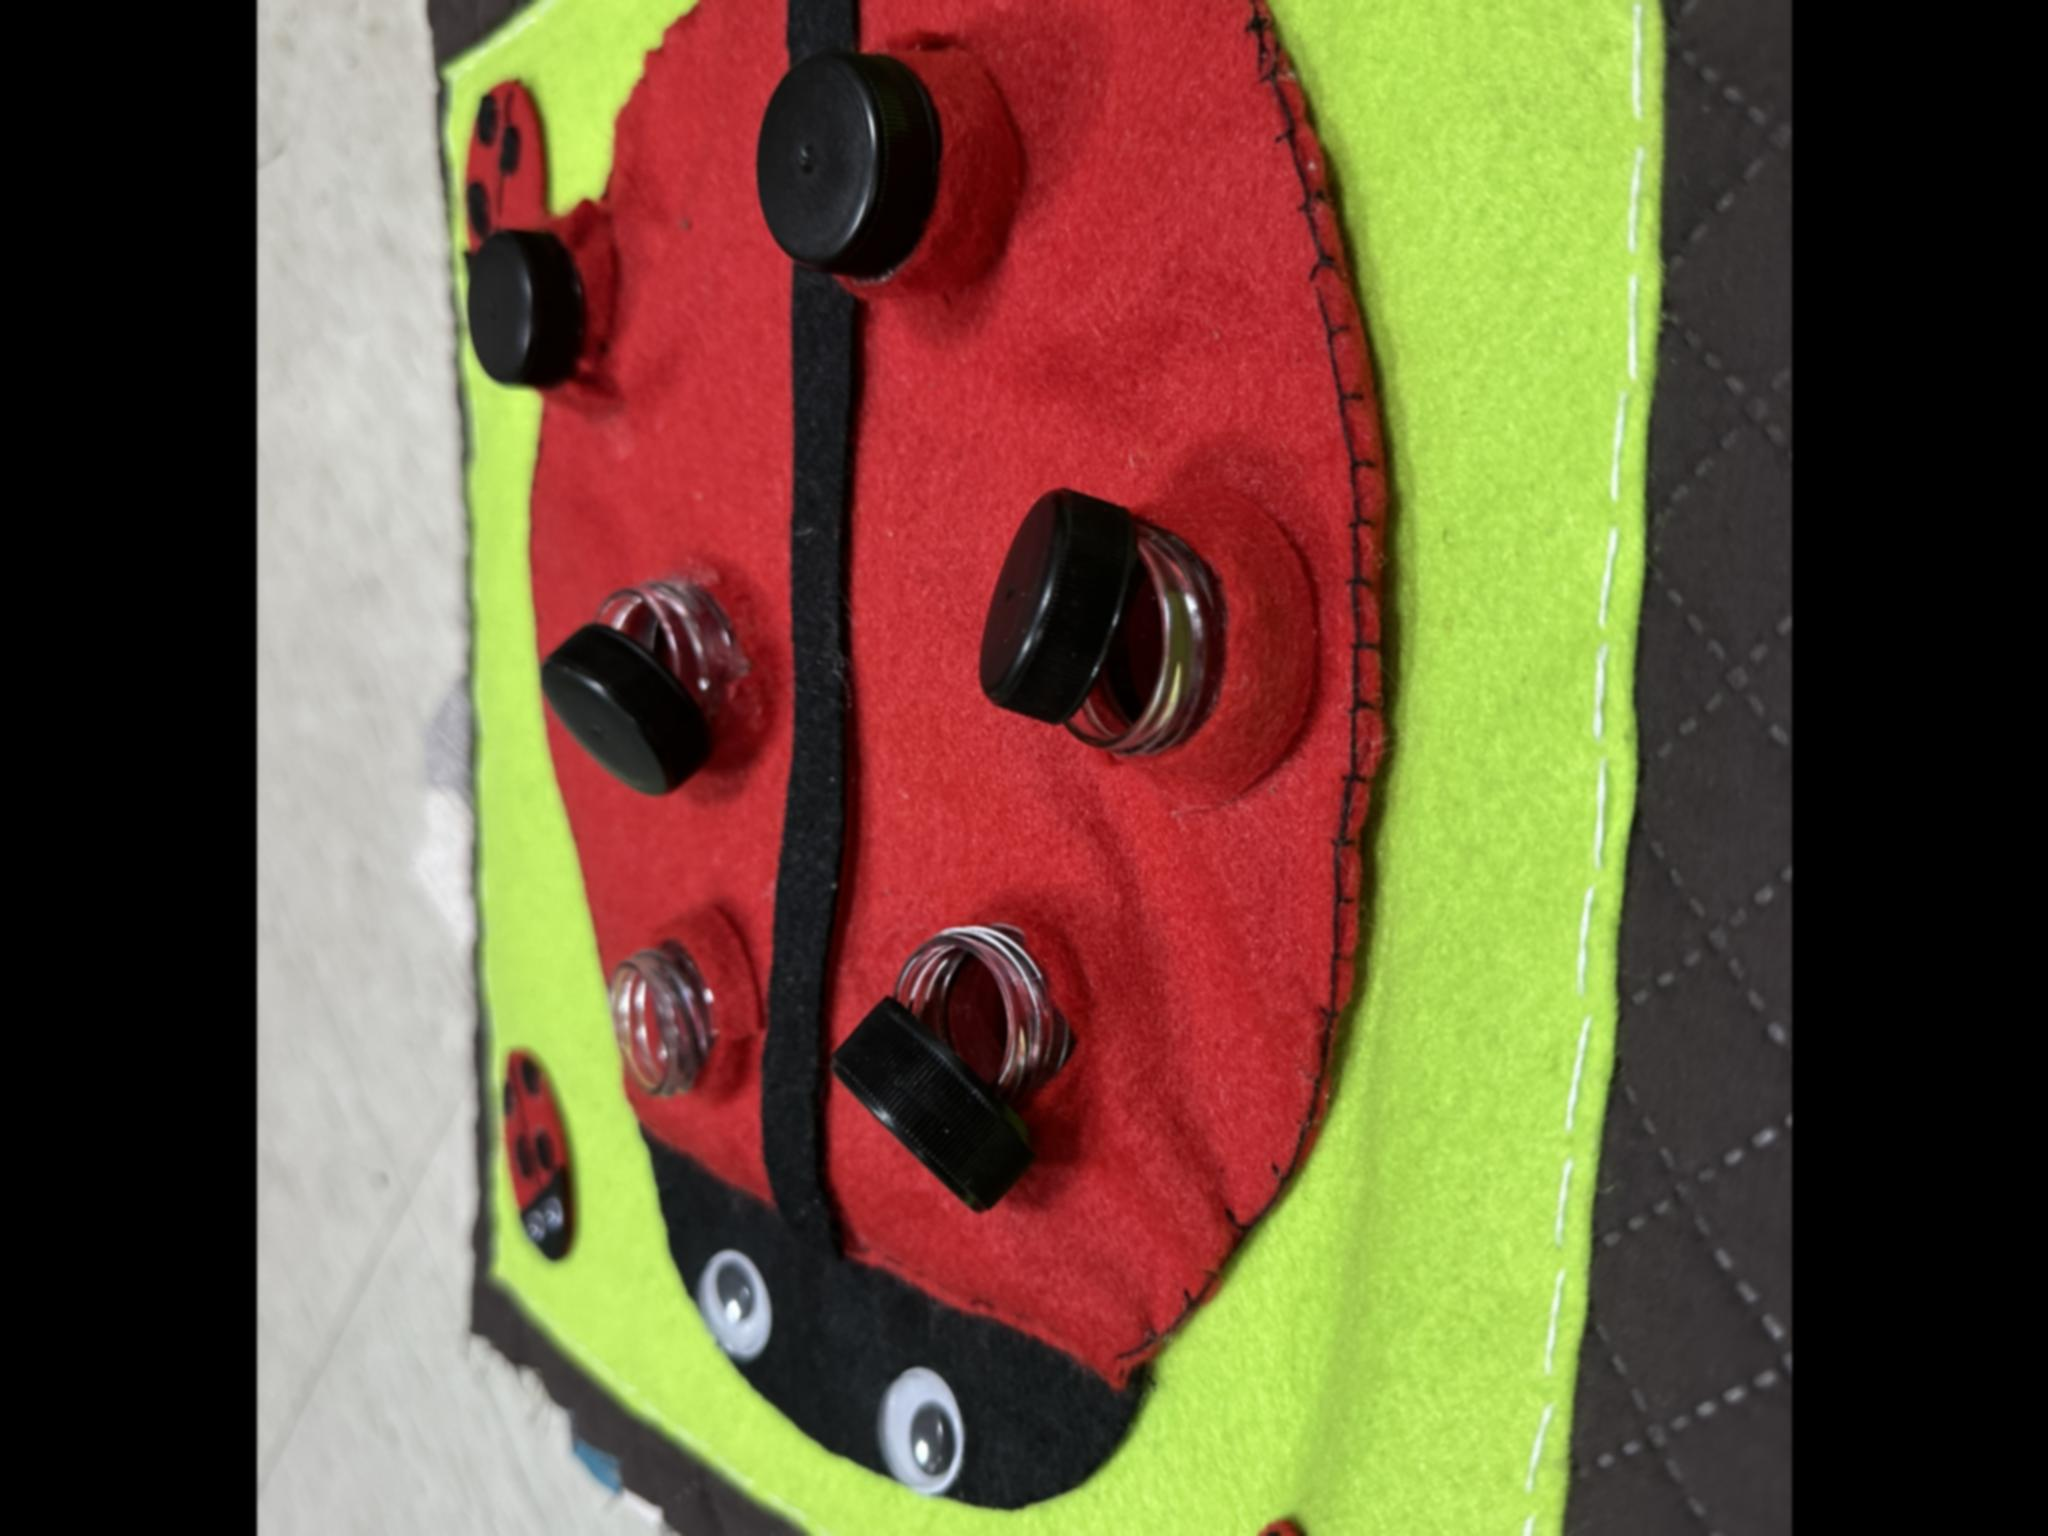cap_ng: (963, 476, 1321, 787), (829, 889, 1087, 1241), (516, 565, 789, 805)
cap_ok: (726, 6, 1024, 328), (440, 192, 606, 423)
